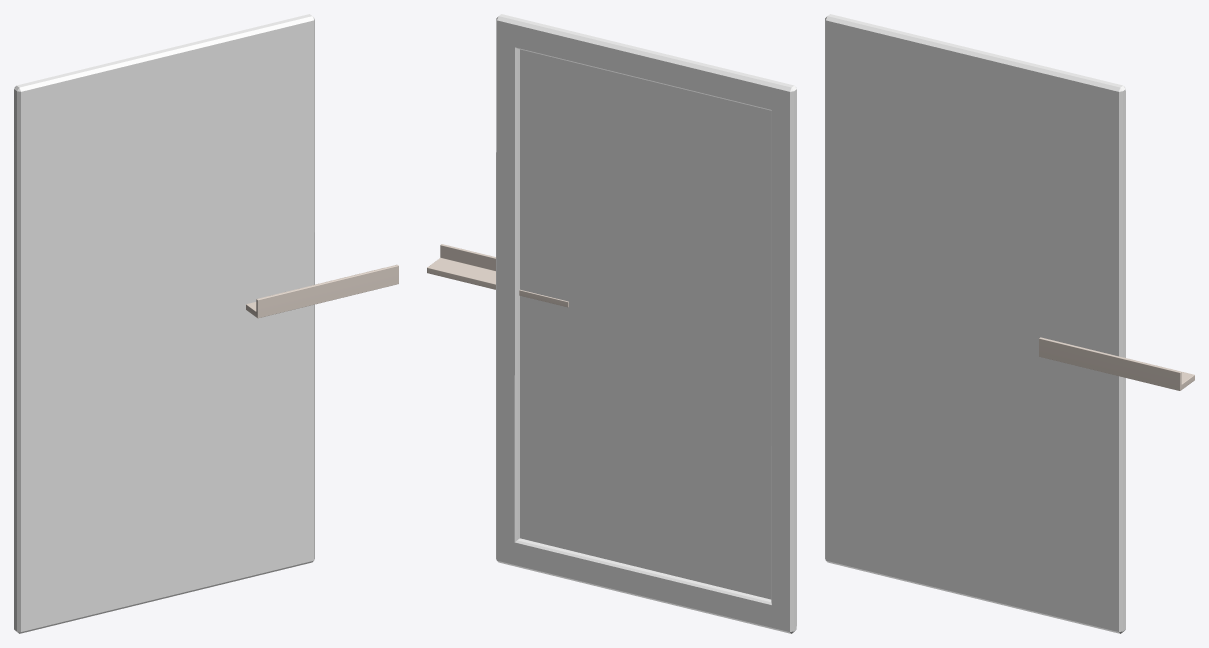
Rendered from Cabinet_f92d8d54.obj.
The picture shows the model from 3 angles, left to right: view 1: azimuth 30°, elevation 25°; view 2: azimuth 150°, elevation 25°; view 3: azimuth 330°, elevation 25°; orthographic projection.
Parts seen in each view (by area): view 1: Mesh_07f93464, handle_3_178mm_01_bb5d0fed; view 2: Mesh_07f93464, handle_3_178mm_01_bb5d0fed; view 3: Mesh_07f93464, handle_3_178mm_01_bb5d0fed.
Boxes of the visible parts, bbox=[...] form: Mesh_07f93464: bbox=[14, 14, 314, 633]; handle_3_178mm_01_bb5d0fed: bbox=[246, 264, 398, 318]; Mesh_07f93464: bbox=[496, 14, 796, 633]; handle_3_178mm_01_bb5d0fed: bbox=[427, 244, 568, 307]; Mesh_07f93464: bbox=[825, 14, 1125, 633]; handle_3_178mm_01_bb5d0fed: bbox=[1039, 337, 1194, 390].
Bounding box in the file's own units: 0.4641 × 0.6574 × 0.0395.
